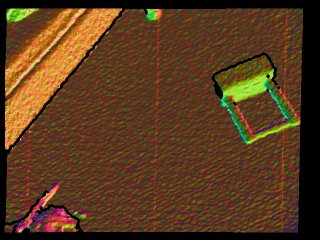station: (212, 53, 300, 146)
